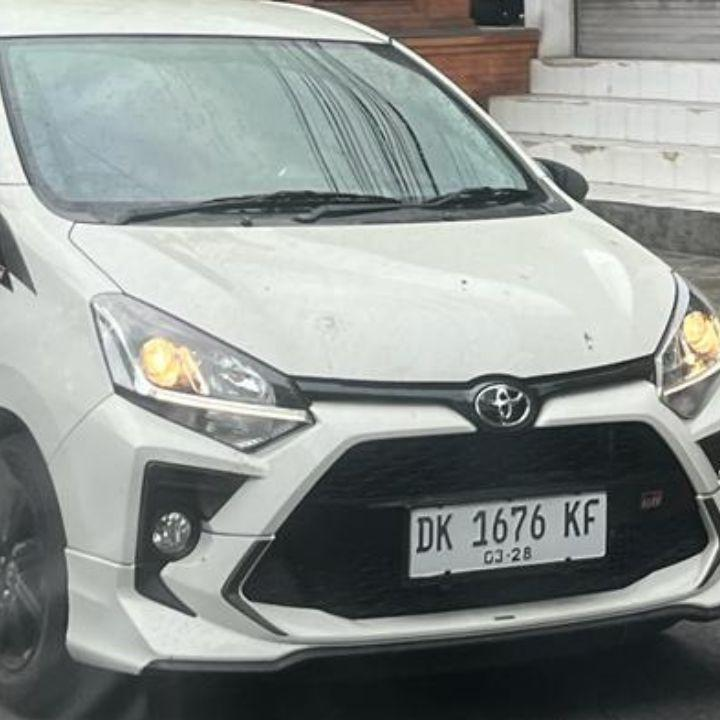plat: (409, 492, 606, 579)
